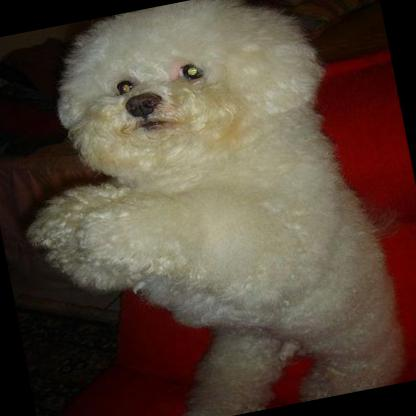toy_poodle: (0, 0, 410, 416)
